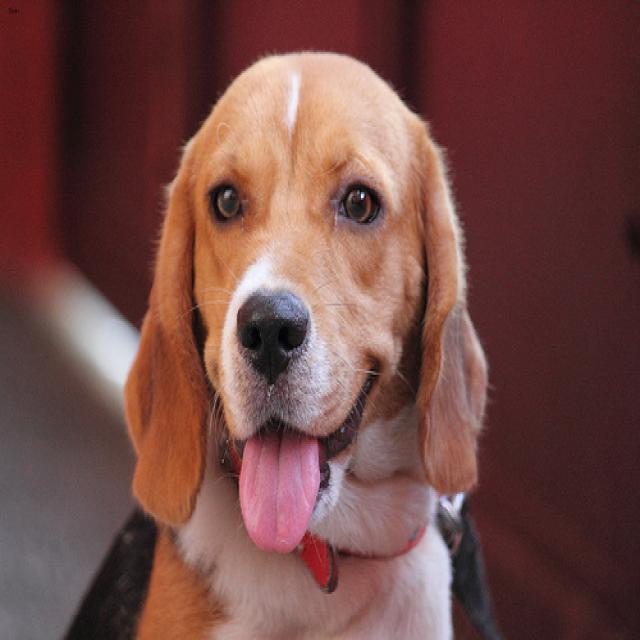dog-beagle: (109, 42, 495, 636)
